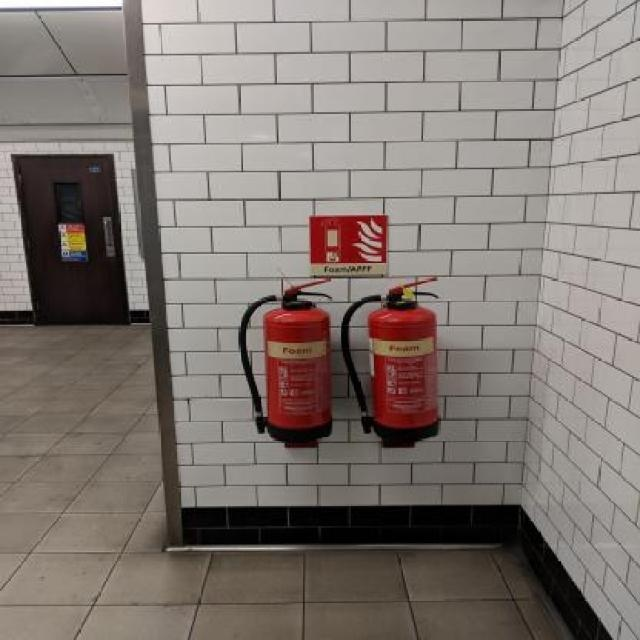fire extinguisher: (341, 278, 456, 447), (235, 276, 339, 447)
